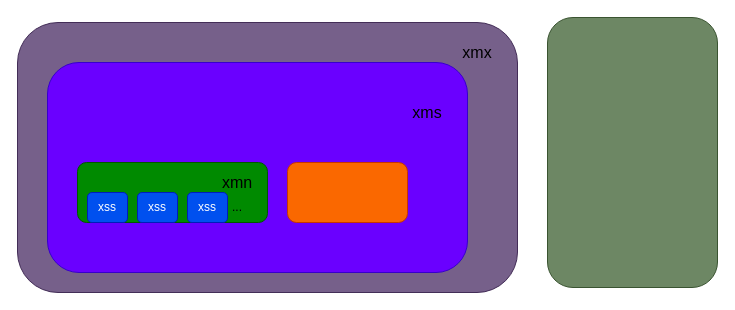
Image size: 735x310. Some labels were removed from this diagram. The centre of each missing label's shape, as x and y in pixels:
"directMemory" goes at (x=632, y=152).
"Meta" goes at (x=347, y=192).
